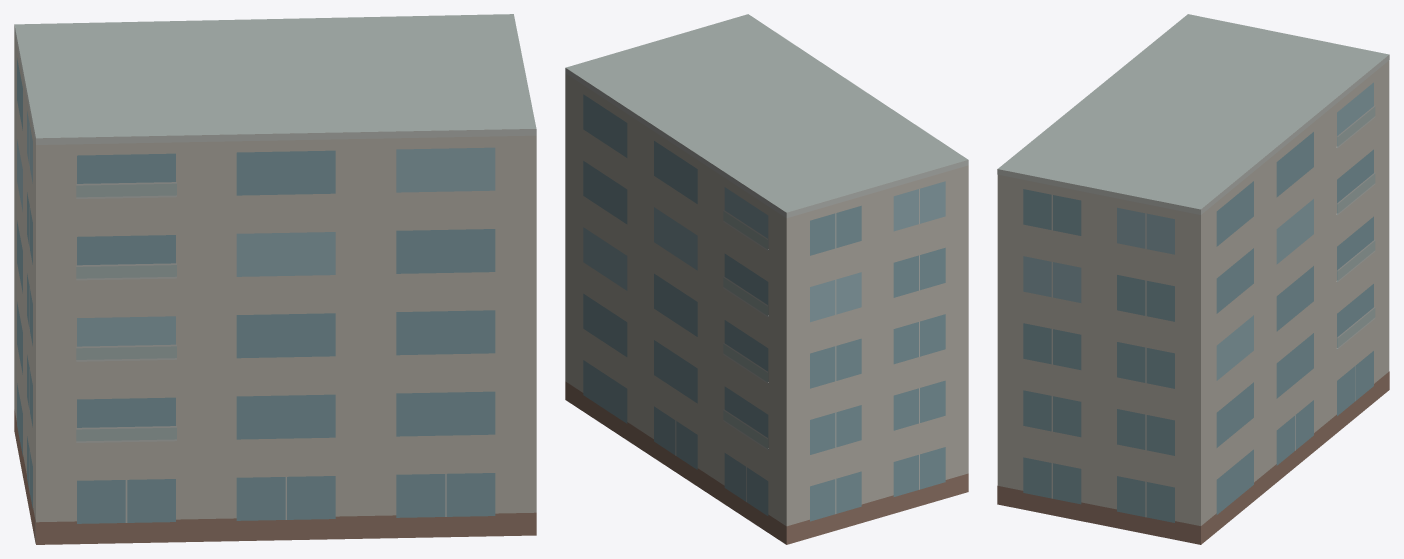
File: survey-upis-32886155.glb
3 views of the same model, side by side, from view 1: azimuth 30°, elevation 25°; view 2: azimuth 150°, elevation 25°; view 3: azimuth 270°, elevation 25° (orthographic). The views are drawn at different scales.
Visible parts, largest first — view 1: survey-upis-32886155.tmp; view 2: survey-upis-32886155.tmp; view 3: survey-upis-32886155.tmp.
Part boxes in pixels (x1,y1,x2,y2): survey-upis-32886155.tmp: (14, 14, 536, 544); survey-upis-32886155.tmp: (565, 14, 968, 544); survey-upis-32886155.tmp: (997, 14, 1389, 544).
Size of the model in its own units: 18.26 by 14.6 by 15.47.
